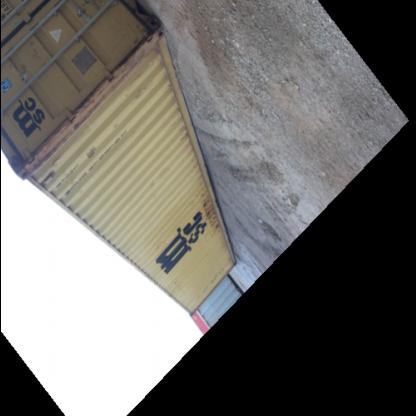Damage: (102, 29, 158, 85), (21, 116, 69, 168), (193, 188, 217, 240), (166, 274, 188, 296), (78, 147, 102, 166), (44, 166, 56, 182)
